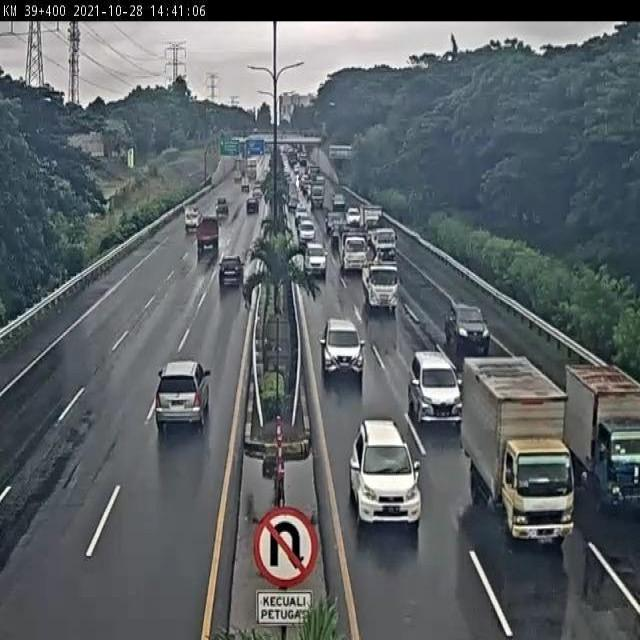car: (350, 420, 424, 527), (408, 352, 465, 429), (321, 315, 365, 377), (444, 304, 492, 355), (218, 252, 244, 288)
mid truck: (153, 360, 212, 429)
truck-m-: (463, 358, 575, 546), (363, 260, 400, 313)
truck-s-: (564, 362, 640, 514)
